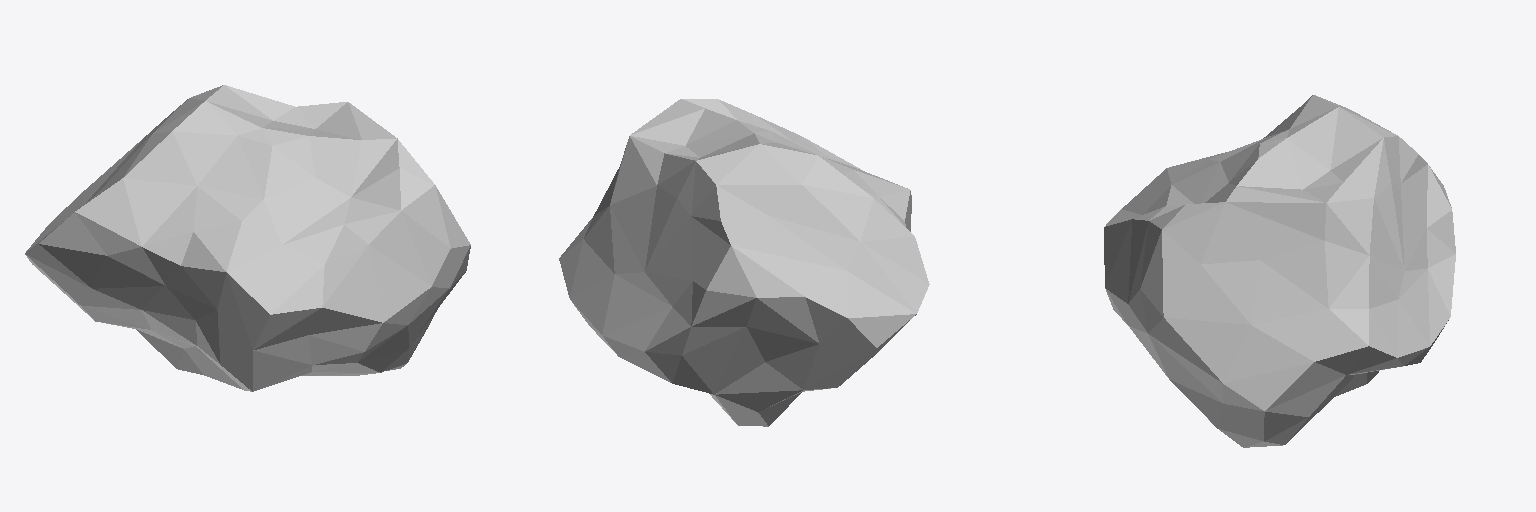
The model's file is Rock1_Cage.obj.
3 renders of one model, left to right at view 1: azimuth 30°, elevation 25°; view 2: azimuth 150°, elevation 25°; view 3: azimuth 270°, elevation 25°, orthographic.
Parts seen in each view (by area): view 1: Cage_Rock1_Low.001; view 2: Cage_Rock1_Low.001; view 3: Cage_Rock1_Low.001.
Boxes of the visible parts, x1=… form: Cage_Rock1_Low.001: x1=25, y1=85, x2=470, y2=391; Cage_Rock1_Low.001: x1=559, y1=99, x2=929, y2=426; Cage_Rock1_Low.001: x1=1104, y1=95, x2=1455, y2=447.
Size of the model in its own units: 2.36 by 1.65 by 1.9.